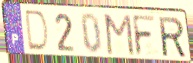0: (80, 12, 103, 56)
2: (53, 12, 76, 54)
D: (25, 9, 51, 55)
F: (131, 14, 157, 58)
M: (104, 13, 136, 58)
R: (157, 16, 188, 59)
